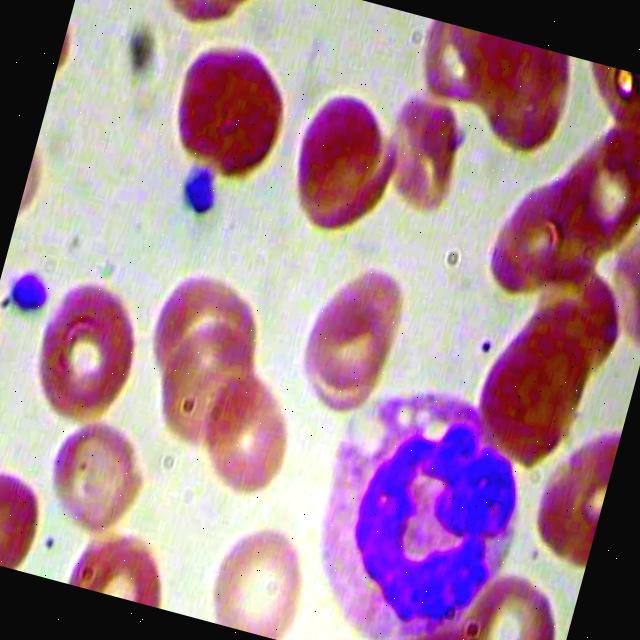Platelets: (4, 258, 65, 323), (172, 156, 224, 217)
RBC: (19, 270, 154, 441), (156, 34, 299, 192), (140, 306, 268, 464), (293, 250, 417, 410), (283, 74, 398, 225), (518, 414, 620, 580), (37, 411, 156, 545), (188, 366, 306, 500), (201, 517, 320, 640), (366, 87, 471, 224), (68, 518, 182, 610), (449, 560, 576, 640), (0, 448, 54, 572)
WBC: (273, 364, 558, 640)
